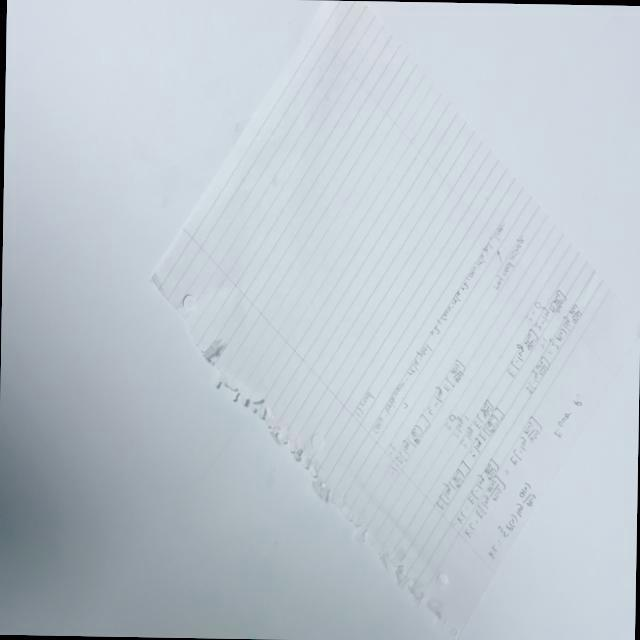paper: (143, 0, 640, 631)
